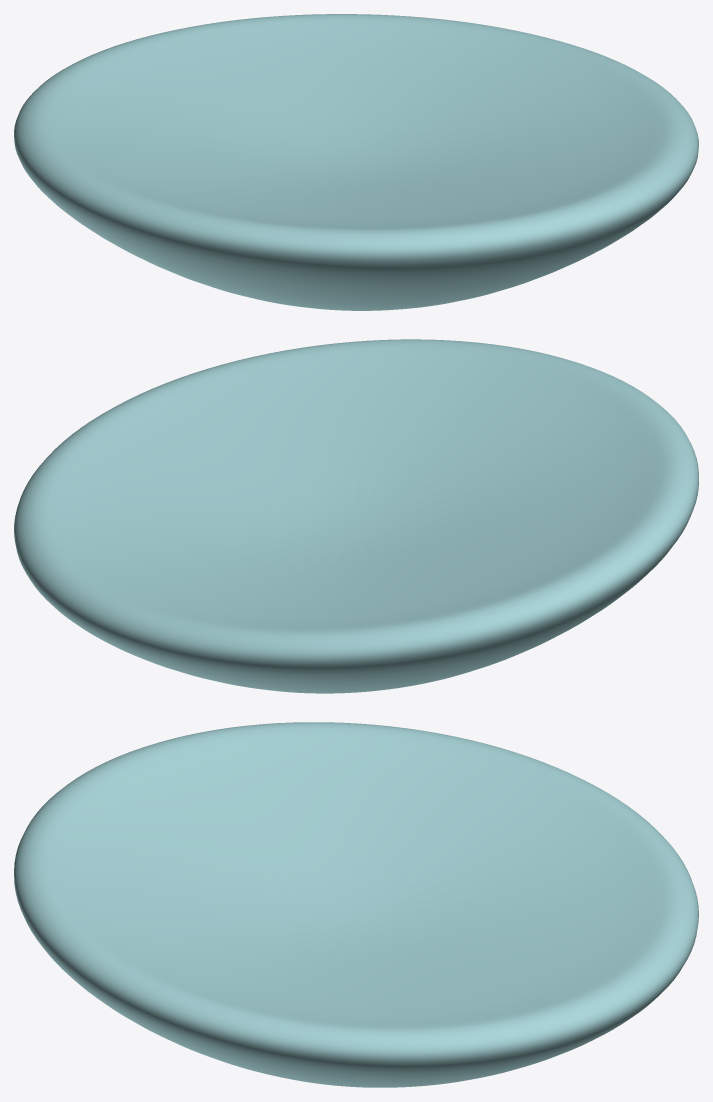
3 views of the same model, one above another, from view 1: azimuth 30°, elevation 25°; view 2: azimuth 150°, elevation 25°; view 3: azimuth 270°, elevation 25° (orthographic).
Visible parts, largest first — view 1: 右侧眼前房; view 2: 右侧眼前房; view 3: 右侧眼前房.
Boxes of the visible parts, x1,y1,x2,y2 form: 右侧眼前房: (14,14,698,310); 右侧眼前房: (14,339,698,693); 右侧眼前房: (14,722,698,1087).
Size of the model in its own units: 0.0188 by 0.00553 by 0.0188.
